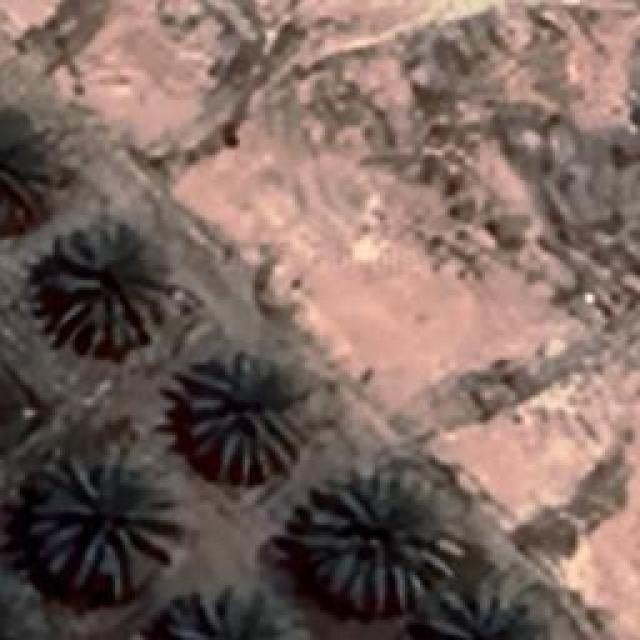PalmTree: (25, 450, 180, 595), (298, 475, 460, 610), (180, 352, 298, 486), (52, 222, 170, 352), (0, 114, 62, 230), (160, 587, 300, 635), (404, 592, 544, 640), (0, 572, 45, 640)
